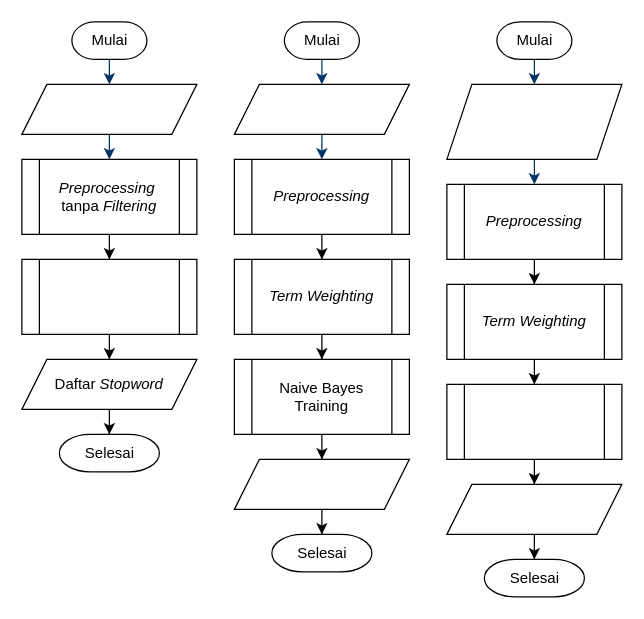
Some shapes in this 644 by 619 pixel diagram are drawn without their labels. The centre of each missing label's shape, as x and y in pixels:
"Data Latih" belongs at point (109, 108).
"Data Latih, Stopword" belongs at point (321, 108).
"Data Uji, Term , Stopword , LIkelihood , Prior" belongs at point (534, 121).
"Hasil Klasifikasi Data Uji" belongs at point (534, 508).
"Naive Bayes Testing" belongs at point (534, 421).
"Term Based Random Sampling" belongs at point (109, 296).
"Term, Likelihood, Prior" belongs at point (321, 483).
